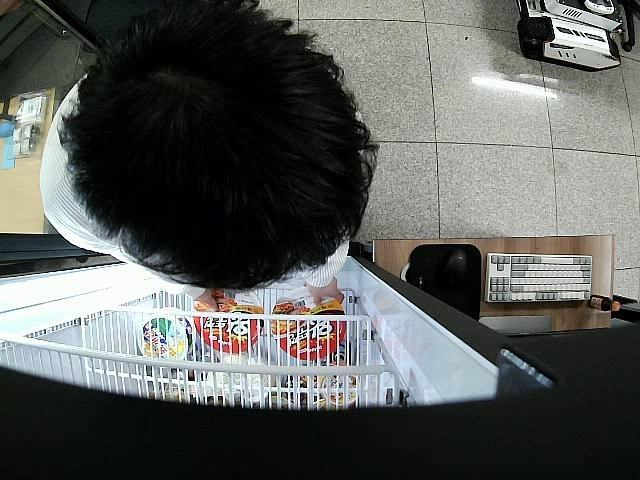10_wangTtukkeong: (274, 287, 348, 361), (193, 289, 266, 352)
